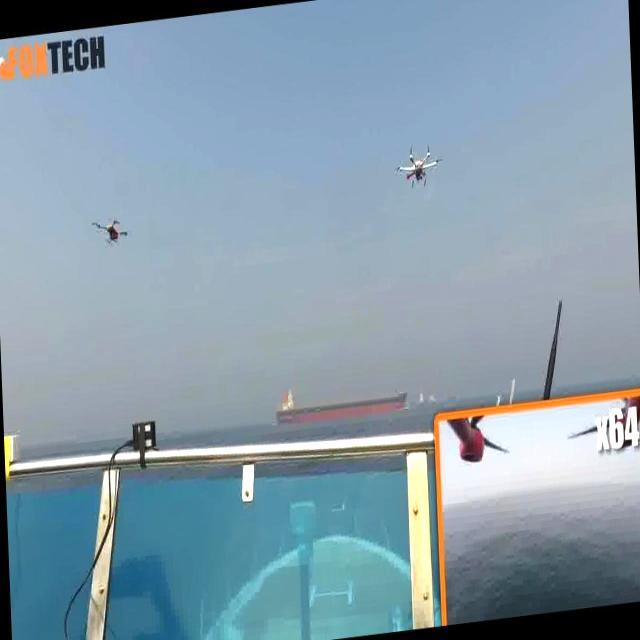drone: (395, 136, 443, 188), (90, 207, 132, 254)
